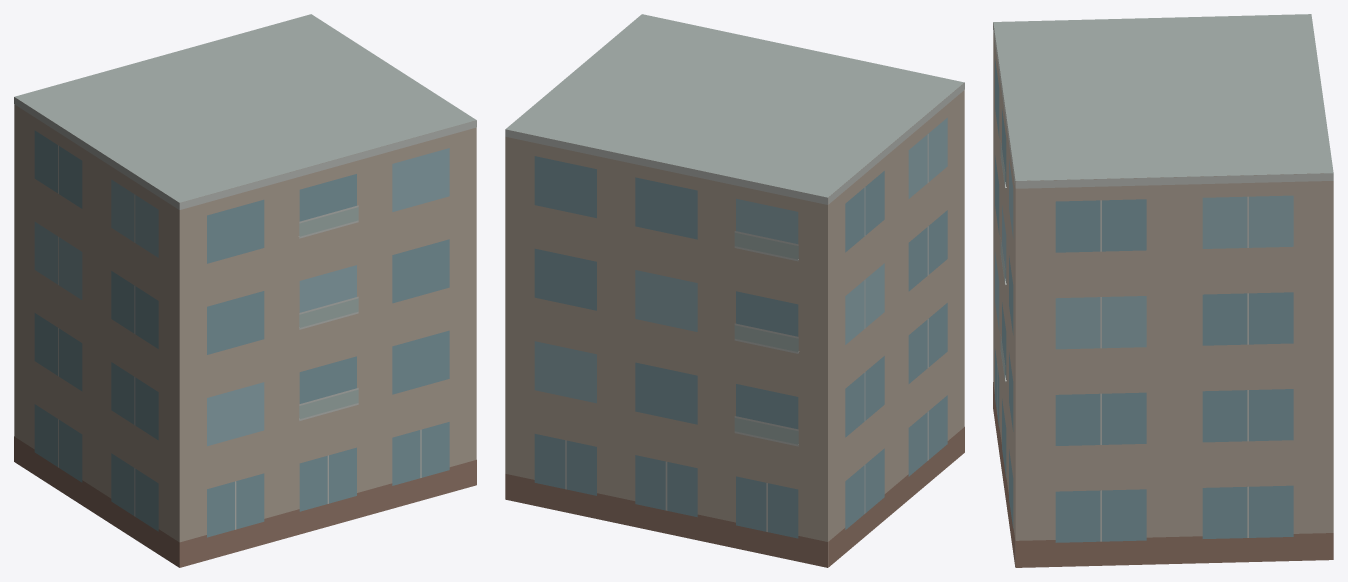
Rendered from residential-5be97a54-7d2a-40fd-922e-935fbef6b795.glb.
The picture shows the model from 3 angles, left to right: view 1: azimuth 30°, elevation 25°; view 2: azimuth 150°, elevation 25°; view 3: azimuth 270°, elevation 25°; orthographic projection. The views are drawn at different scales.
Parts seen in each view (by area): view 1: residential-5be97a54-7d2a-40fd-922e-935fbef6b795.tmp; view 2: residential-5be97a54-7d2a-40fd-922e-935fbef6b795.tmp; view 3: residential-5be97a54-7d2a-40fd-922e-935fbef6b795.tmp.
Part boxes in pixels (<box>): residential-5be97a54-7d2a-40fd-922e-935fbef6b795.tmp: <box>14,14,476,567</box>; residential-5be97a54-7d2a-40fd-922e-935fbef6b795.tmp: <box>505,14,964,567</box>; residential-5be97a54-7d2a-40fd-922e-935fbef6b795.tmp: <box>993,14,1333,567</box>.
Size of the model in its own units: 11.31 by 12.2 by 9.74.
